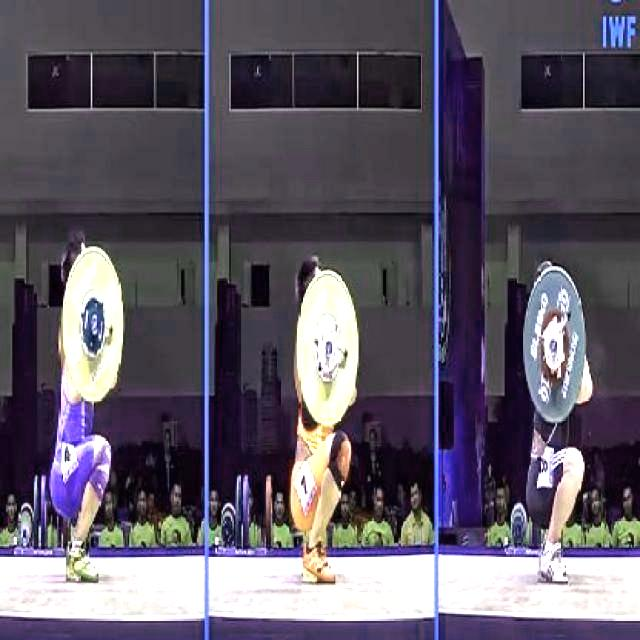barbell: (58, 243, 135, 407), (291, 266, 362, 434), (520, 262, 582, 425)
